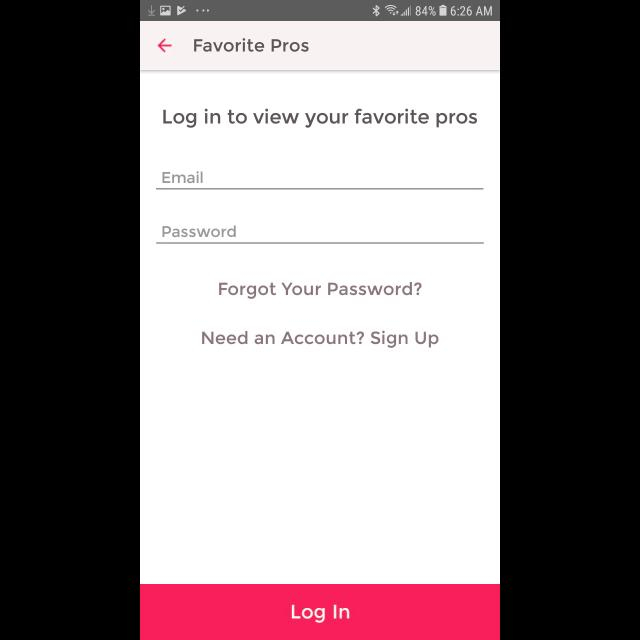icon: (158, 39, 172, 53)
input: (156, 170, 484, 190), (156, 226, 484, 244)
text: (163, 108, 477, 128), (202, 331, 438, 349), (218, 282, 422, 300), (194, 38, 310, 52), (163, 226, 237, 238), (162, 172, 204, 184)
textbutton: (140, 584, 500, 640)
uppertaskbar: (140, 1, 500, 22)
